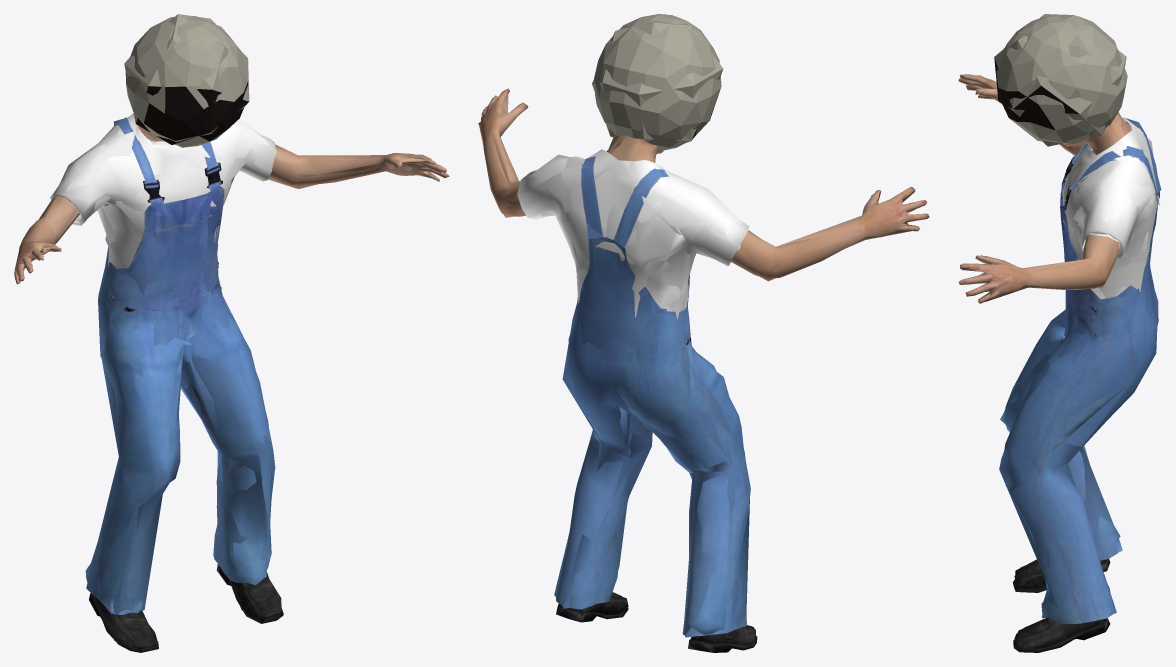
Rendered from frozen-6.glb.
3 views of the same model, side by side, from view 1: azimuth 30°, elevation 25°; view 2: azimuth 150°, elevation 25°; view 3: azimuth 270°, elevation 25° (orthographic). The views are drawn at different scales.
Visible parts, largest first — view 1: near, far; view 2: near, far; view 3: near, far.
Part boxes in pixels (<box>): near: <box>14,16,449,652</box>; far: <box>16,14,445,651</box>; near: <box>478,14,929,652</box>; far: <box>479,14,928,647</box>; near: <box>958,15,1159,652</box>; far: <box>960,14,1161,651</box>.
Bounding box in the file's own units: 1.23 × 1.64 × 0.5028.
2 materials, 2 textured.
